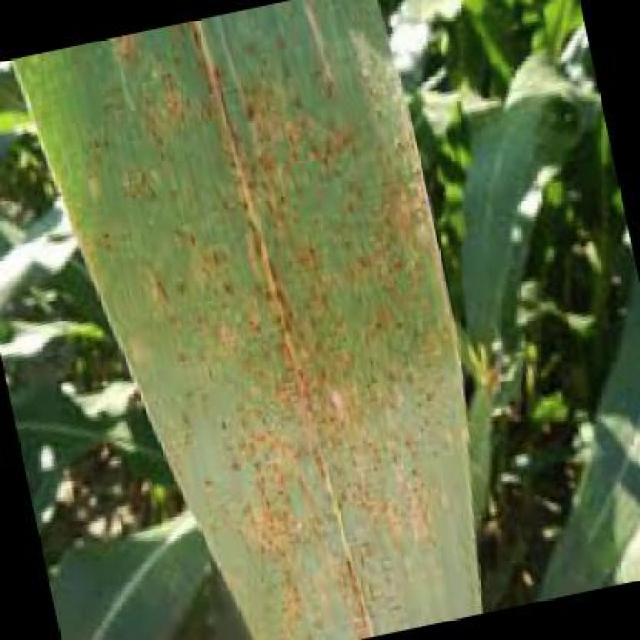Corn_Rust: (69, 66, 508, 606)
